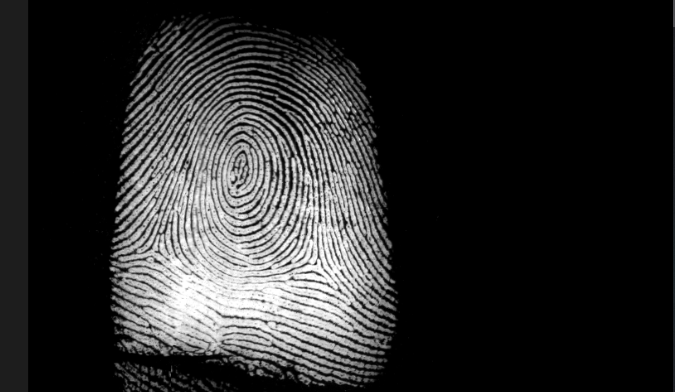deltas: (131, 224, 172, 273), (294, 241, 336, 288)
nucleo: (217, 141, 262, 192)
